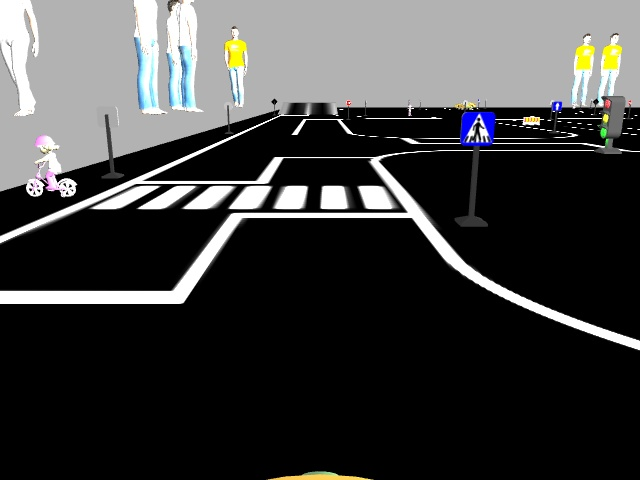Crosswalk: (461, 110, 495, 148)
Pedestrian: (22, 134, 78, 198)
TrafficLight: (598, 95, 625, 140)
